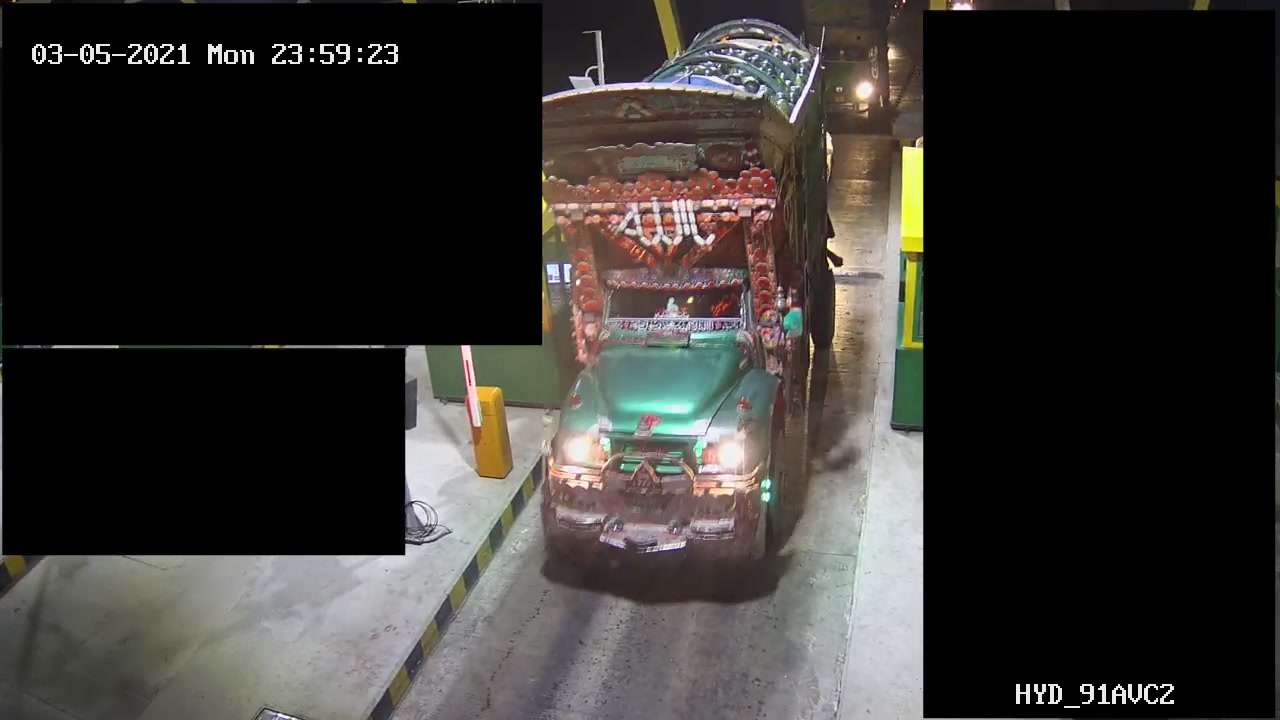F5: (523, 12, 838, 597)
